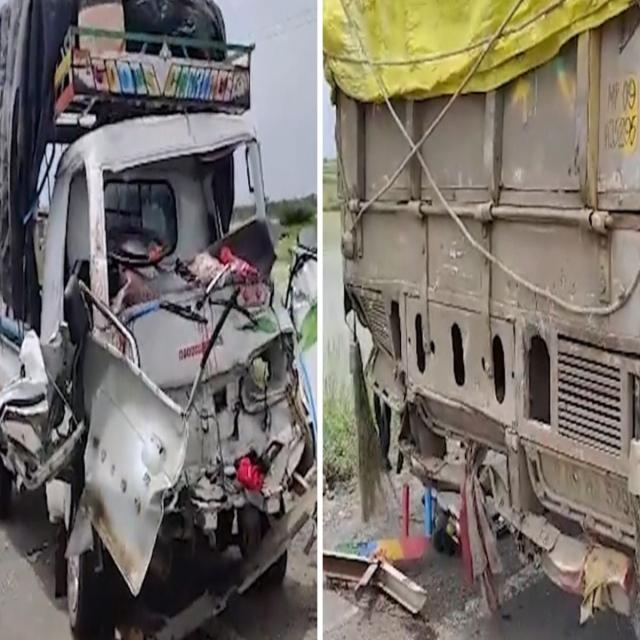accident: (321, 3, 640, 640), (0, 0, 318, 638)
